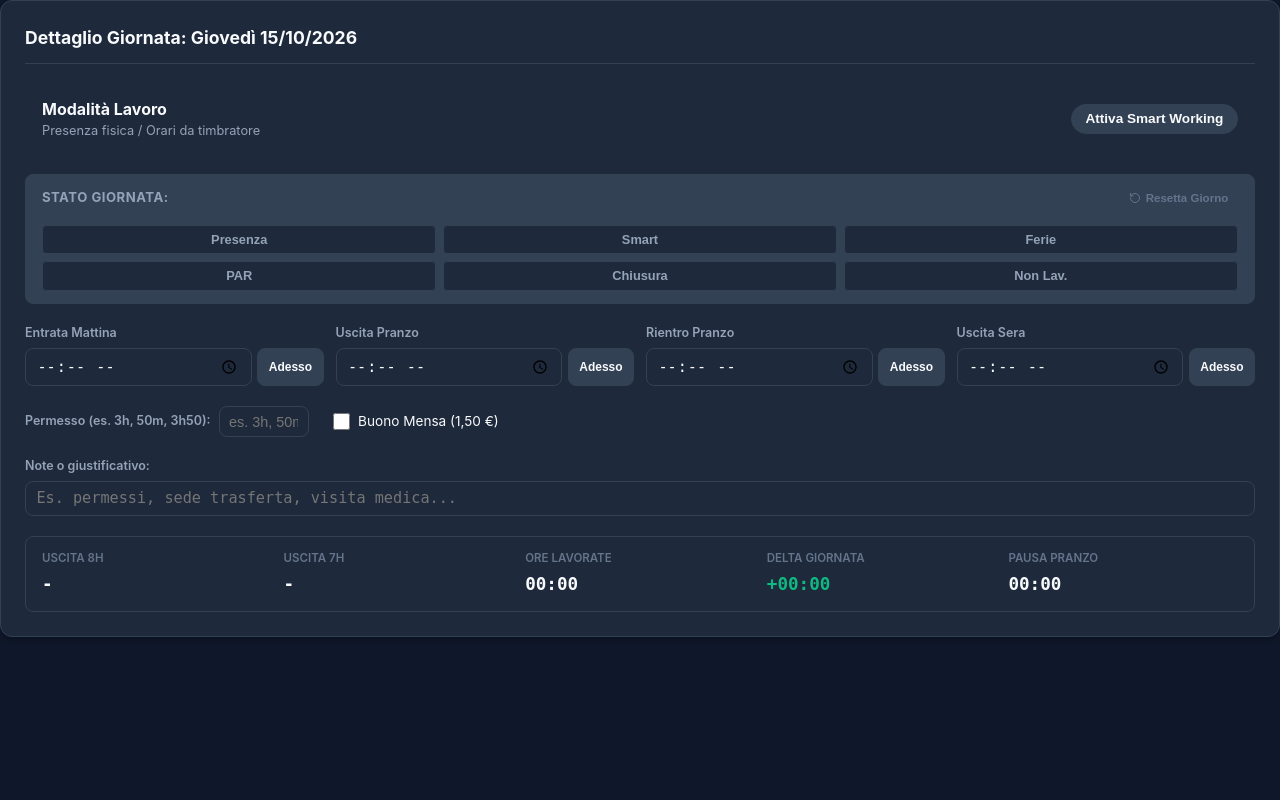
Test case: DayDetailCard Feature › allows selecting day status via status buttons directly on DayDetailCard
The width and height of the screenshot is (1280, 800).
Expected: the button with test id "btn-status-presenza" is shown, [42,225,436,254]
Expected: the button with test id "btn-status-smart" is shown, [443,225,837,254]
Click the button with test id "btn-status-ferie". click: (1041, 240)
box: [844,225,1238,254]
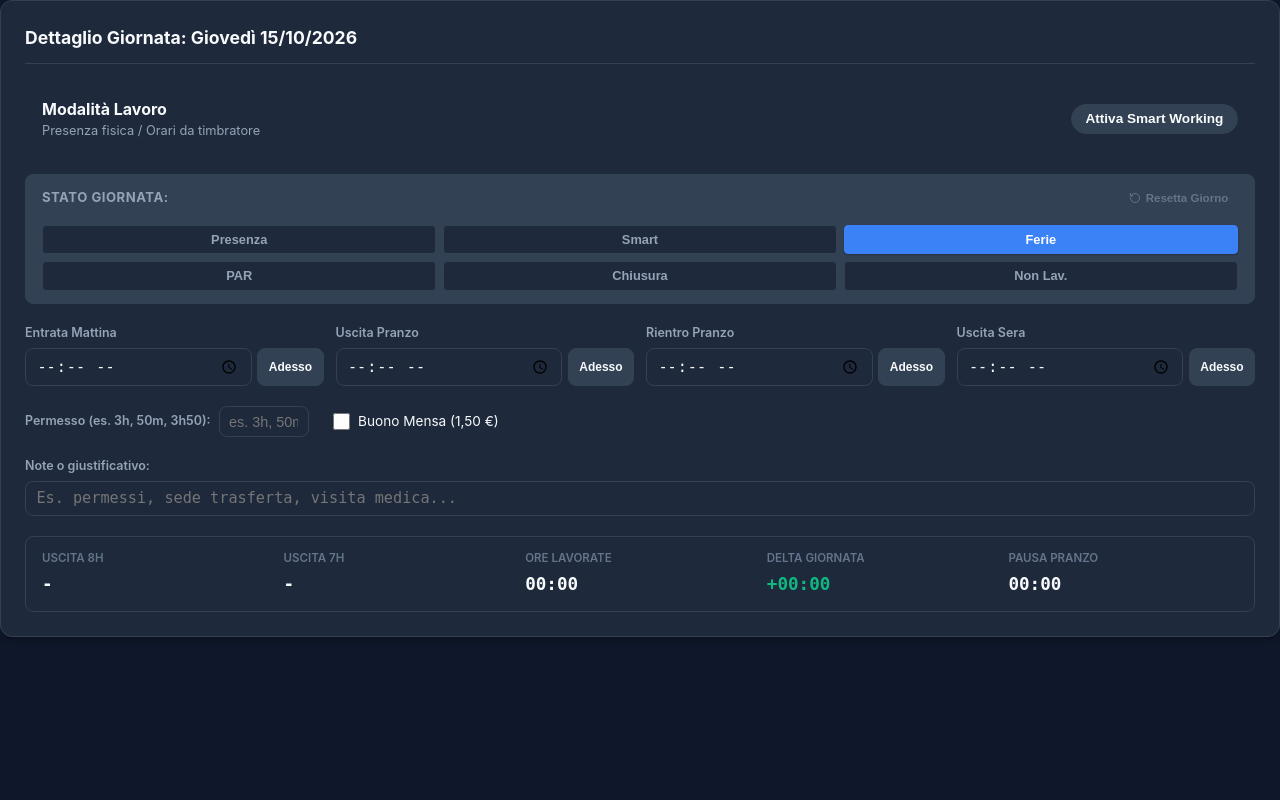
Expected: the button with test id "btn-status-ferie" has attribute data-active="true", [844,225,1238,254]
